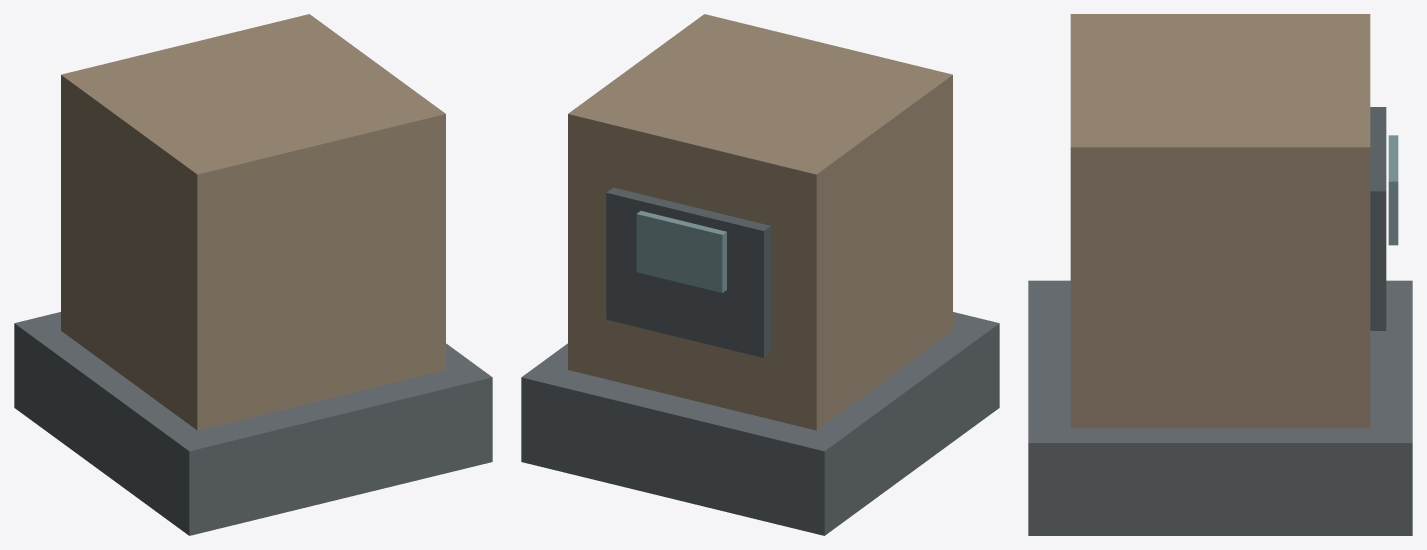
File: iz3_build_defense_turret_02.glb
The picture shows the model from 3 angles, left to right: view 1: azimuth 30°, elevation 25°; view 2: azimuth 150°, elevation 25°; view 3: azimuth 270°, elevation 25°; orthographic projection. The views are drawn at different scales.
Parts seen in each view (by area): view 1: cabinet, base; view 2: cabinet, base, panel, display; view 3: cabinet, base, panel, display.
Boxes of the visible parts, <box> form: cabinet: <box>61,14,445,430</box>; base: <box>14,312,492,535</box>; cabinet: <box>568,14,952,430</box>; base: <box>521,312,999,535</box>; panel: <box>606,187,770,357</box>; display: <box>636,211,726,292</box>; cabinet: <box>1070,14,1370,428</box>; base: <box>1028,280,1412,535</box>; panel: <box>1370,107,1386,330</box>; display: <box>1388,135,1398,245</box>.
Size of the model in its own units: 1.2 by 1.29 by 1.2.
